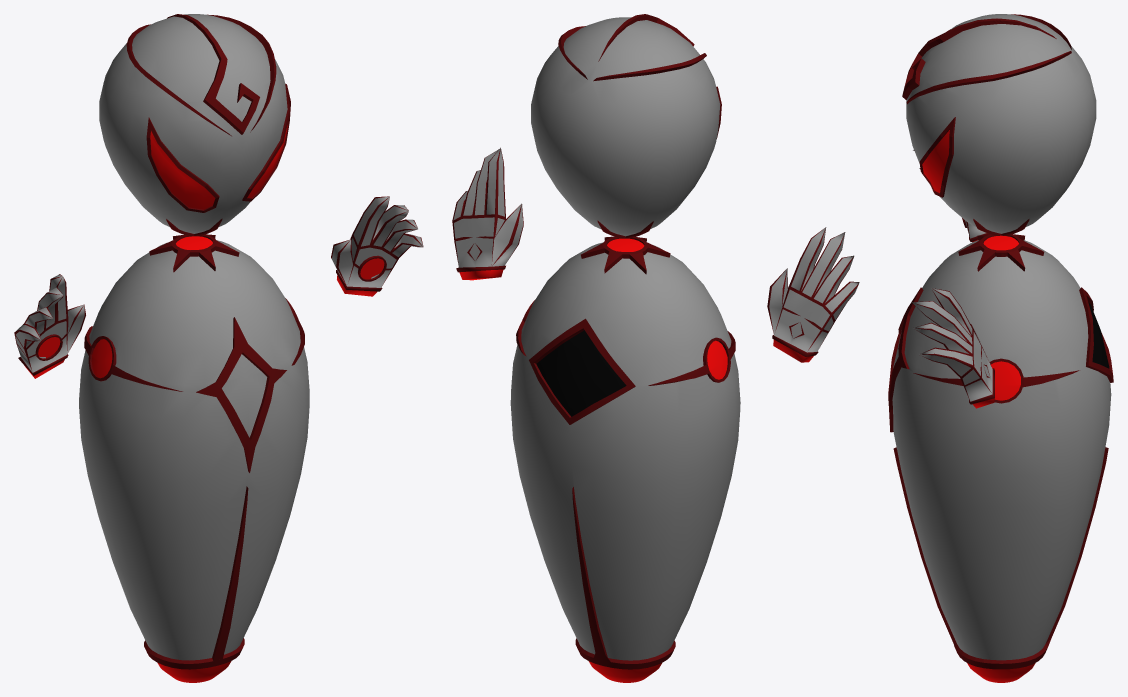
The model's file is BOSSDispararD.FBX.
3 views of the same model, side by side, from view 1: azimuth 30°, elevation 25°; view 2: azimuth 150°, elevation 25°; view 3: azimuth 270°, elevation 25° (orthographic).
Parts seen in each view (by area): view 1: Cuerpo, Cabeza, ManoIzquierda, ManoIzquierda001, Pechito; view 2: Cuerpo, Cabeza, ManoIzquierda001, ManoIzquierda; view 3: Cuerpo, Cabeza, ManoIzquierda.
Boxes of the visible parts, x1,y1,x2,y2 form: Cuerpo: [79, 234, 309, 682]; Cabeza: [99, 14, 290, 235]; ManoIzquierda: [331, 196, 423, 296]; ManoIzquierda001: [14, 274, 85, 378]; Pechito: [222, 354, 267, 437]; Cuerpo: [510, 236, 740, 682]; Cabeza: [531, 14, 721, 237]; ManoIzquierda001: [767, 227, 859, 362]; ManoIzquierda: [452, 147, 523, 280]; Cuerpo: [888, 234, 1113, 682]; Cabeza: [902, 14, 1096, 235]; ManoIzquierda: [912, 288, 994, 408].
Size of the model in its own units: 2.38 by 3.82 by 1.18.
